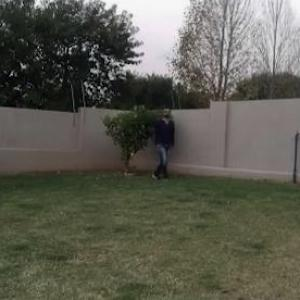follow: (152, 104, 172, 184)
